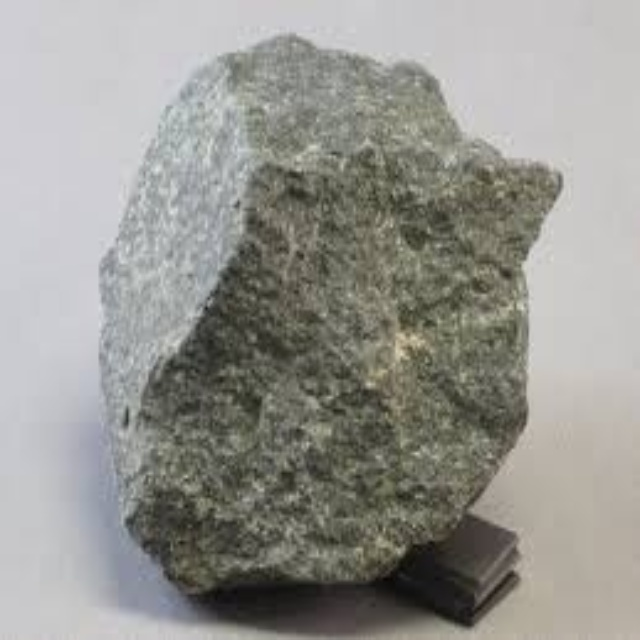obstacle: (99, 36, 558, 587)
